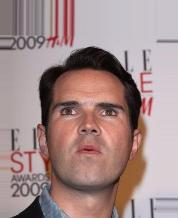face: (57, 100, 125, 163)
